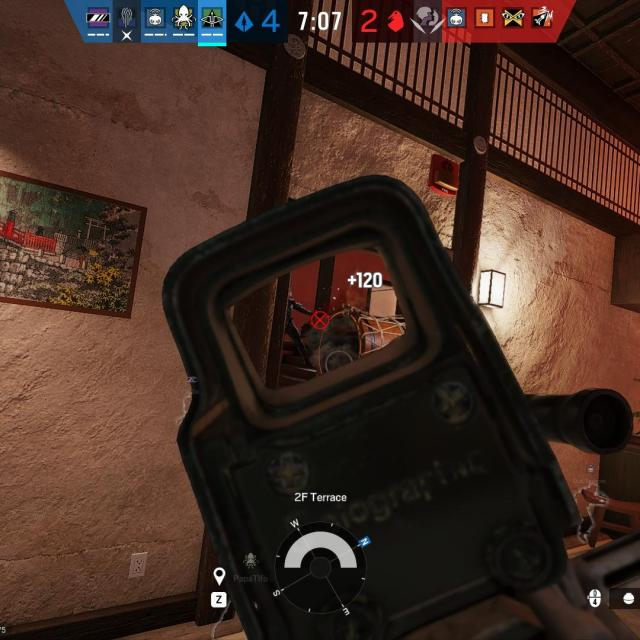Character: (284, 291, 328, 372)
Friend_label: (230, 554, 271, 586), (572, 462, 610, 484), (182, 374, 204, 396)
